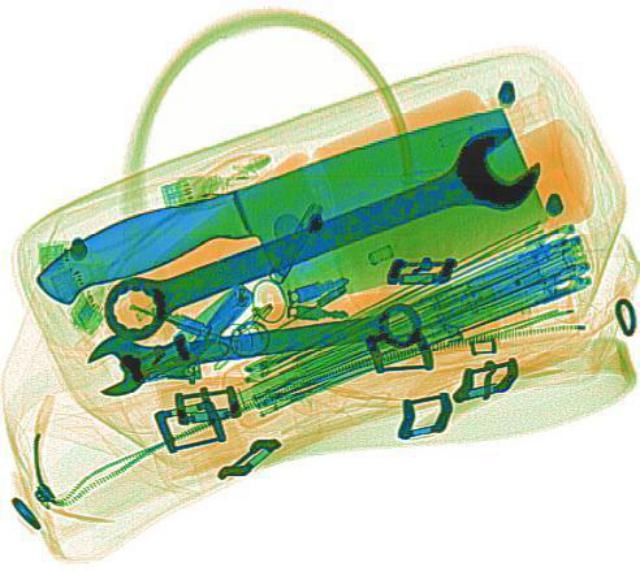Knife: (20, 102, 558, 375)
Wrench: (85, 116, 555, 359), (80, 283, 428, 396)
